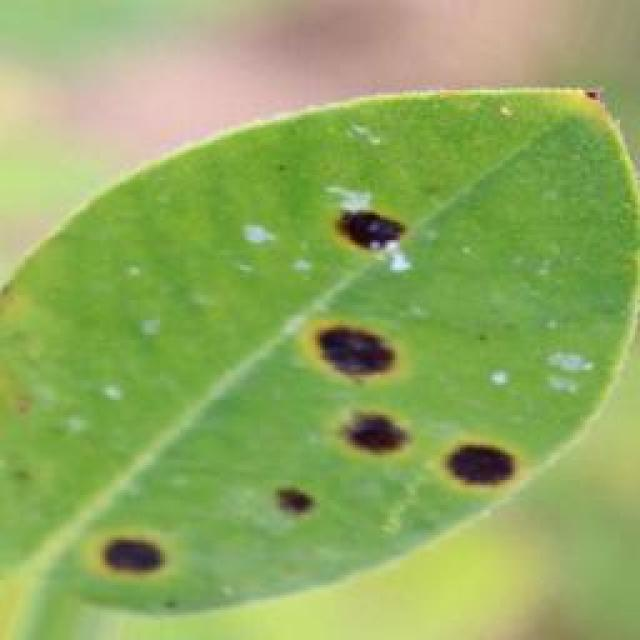Sigatoka: (411, 386, 514, 491), (60, 508, 179, 587), (301, 169, 390, 264), (299, 299, 388, 389), (334, 381, 418, 462), (252, 450, 318, 533)
